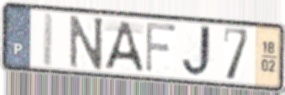7: (222, 26, 250, 83)
A: (102, 19, 146, 74)
F: (144, 20, 179, 75)
I: (40, 11, 56, 69)
J: (180, 23, 216, 80)
N: (68, 13, 105, 71)
